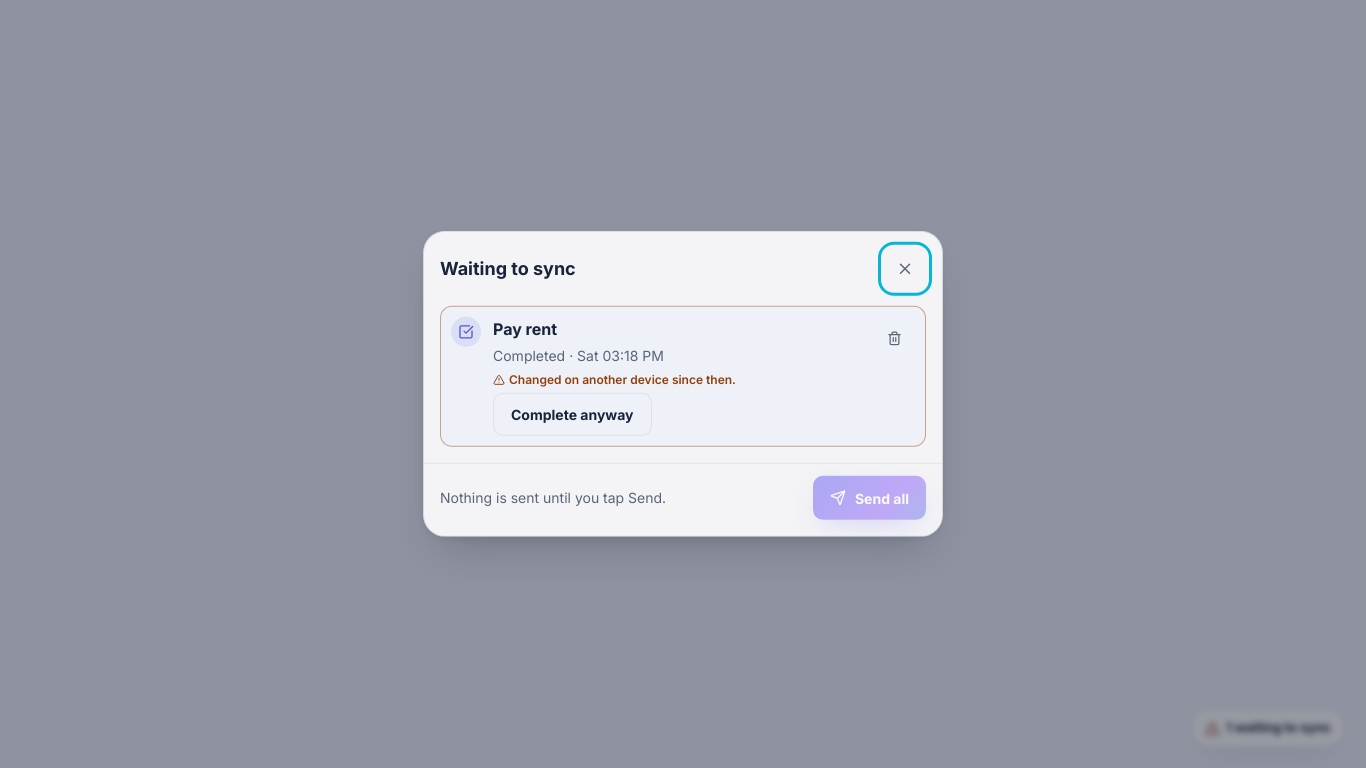
Test case: Waiting to sync › offers “Complete anyway” for a changed task and lets any item be discarded
The width and height of the screenshot is (1366, 768).
Expected: the text "Changed on another device since then." is shown, x1=493 y1=372 x2=736 y2=387
Expected: the button "Complete anyway" is enabled, x1=493 y1=393 x2=652 y2=436
Click the button named "Discard “Pay rent”" at (894,338), box x1=873 y1=317 x2=915 y2=359
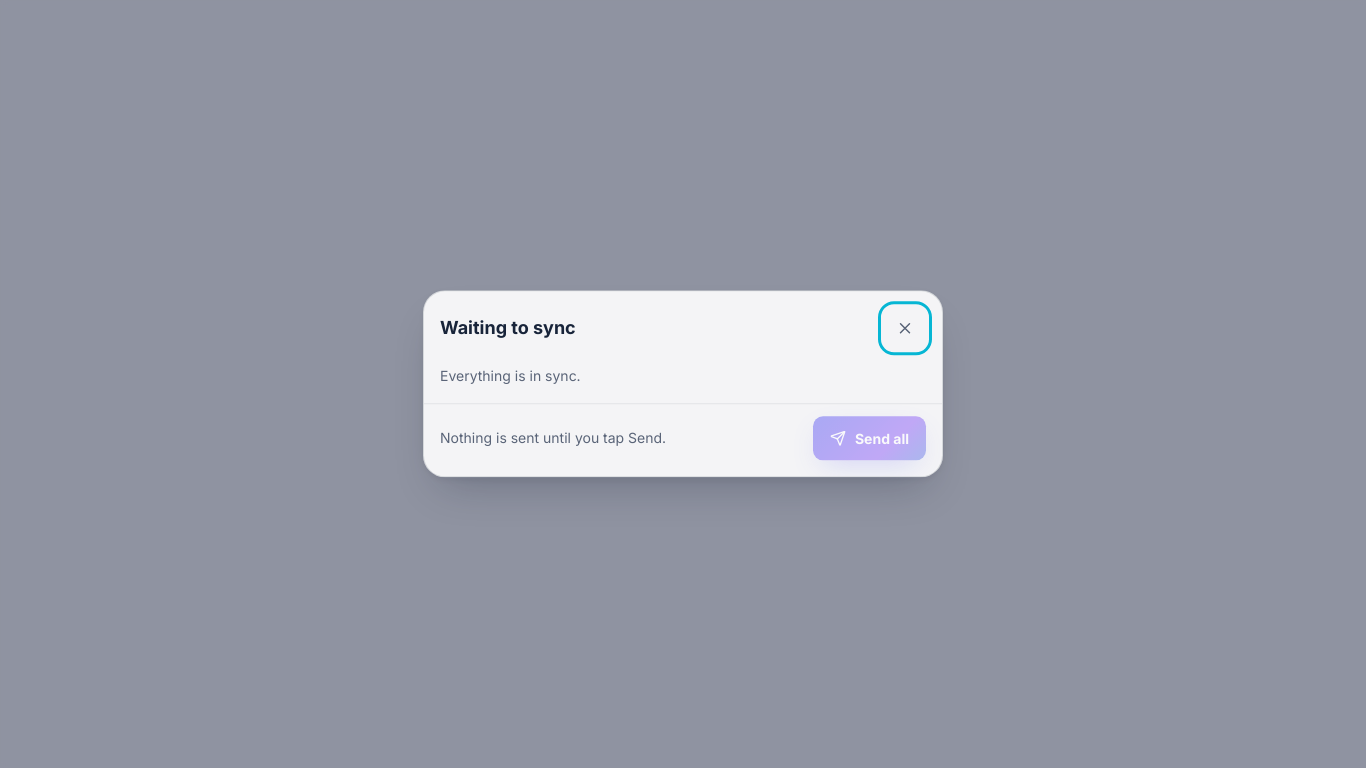
Expected: the text "Everything is in sync." is shown, x1=440 y1=367 x2=581 y2=384
